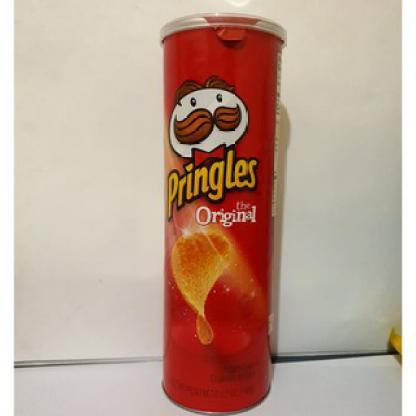potatochip: (159, 12, 285, 416)
